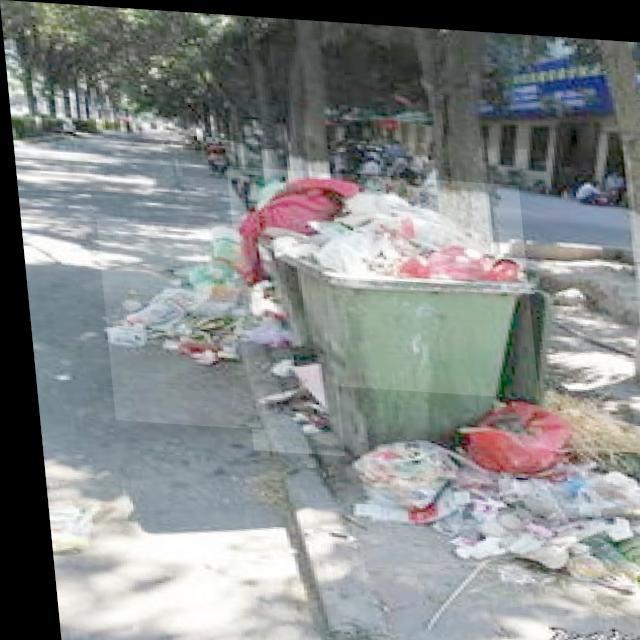garbage: (331, 382, 640, 583), (92, 217, 332, 431)
overflow: (224, 163, 537, 462)
